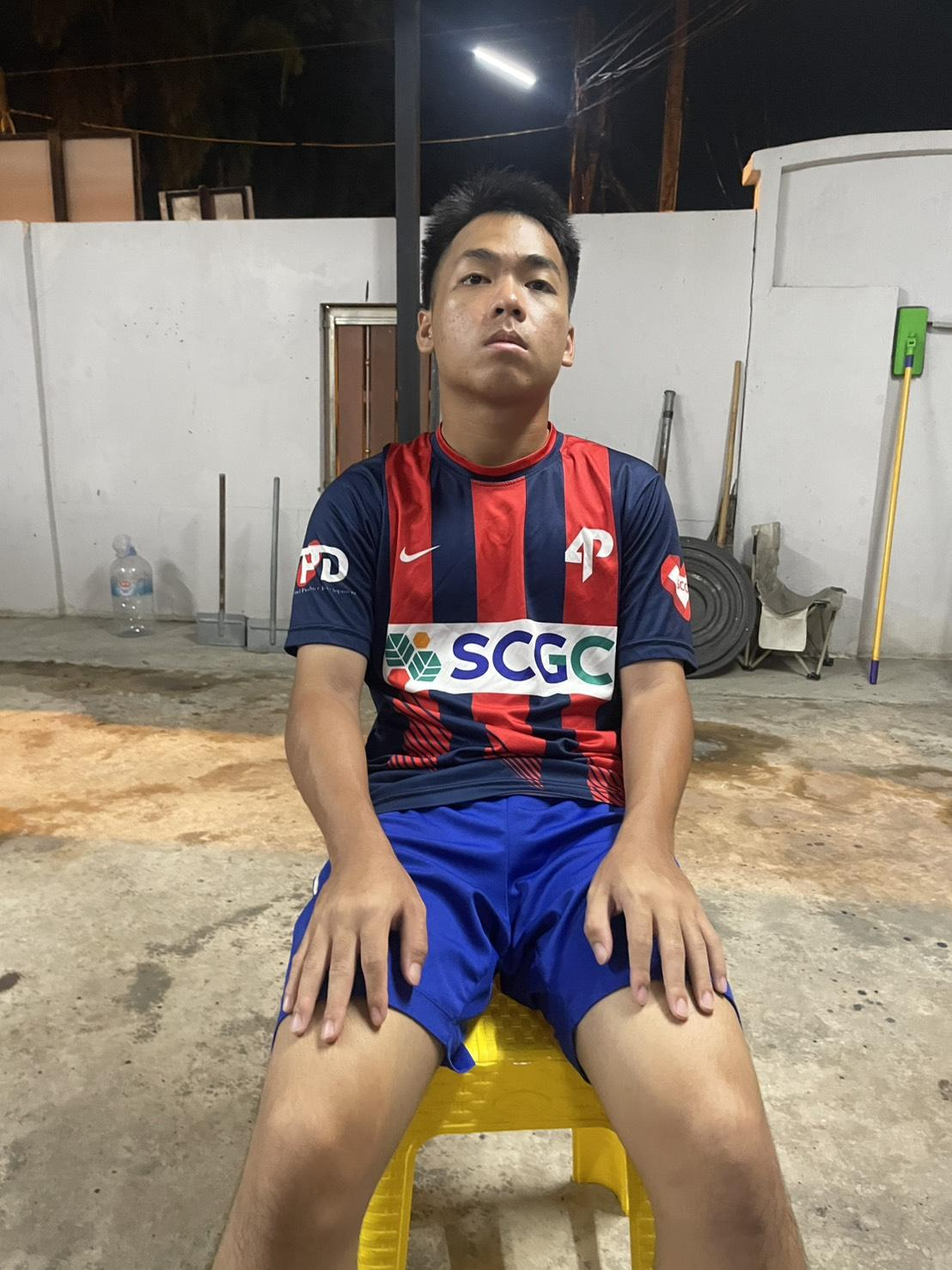BadPosture: (289, 171, 691, 854)
